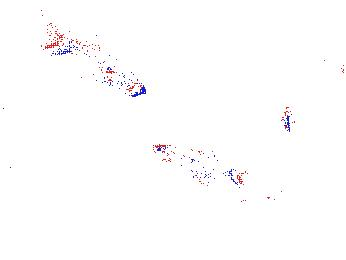X-ray fish: (107, 218, 147, 255)
red belly glassfish: (282, 105, 294, 140)
redtail glassfish: (44, 25, 147, 98), (149, 142, 246, 189), (238, 187, 301, 205)
